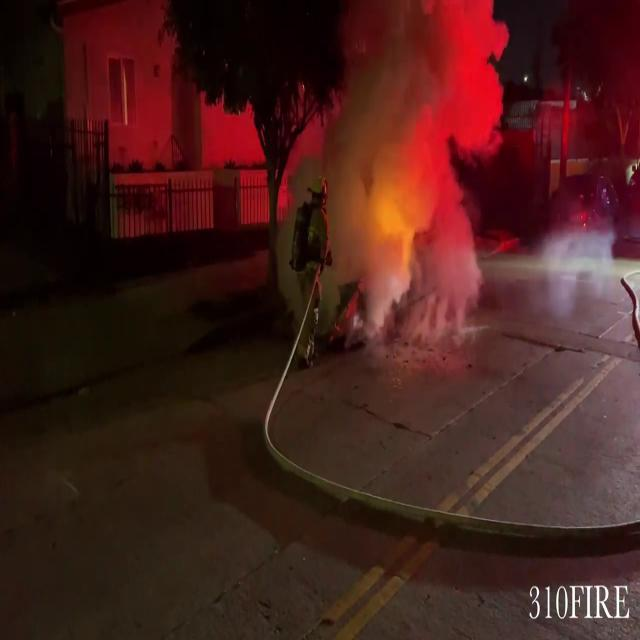Smoke: (320, 0, 510, 313)
